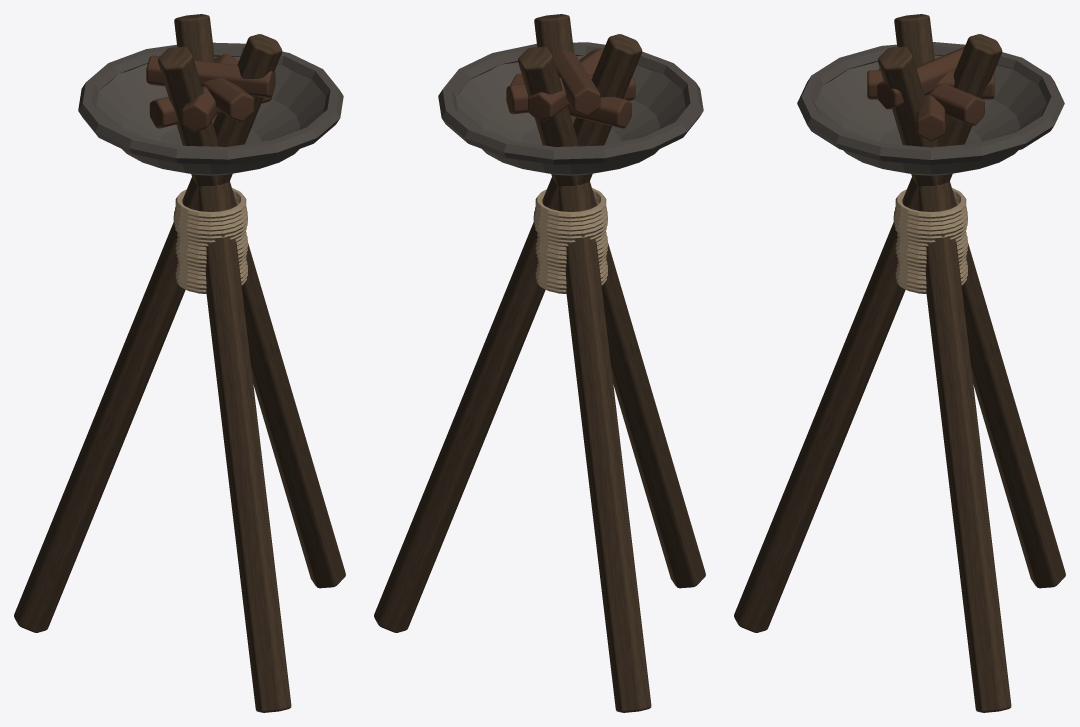
File: road_cresset.glb
3 renders of one model, left to right at view 1: azimuth 30°, elevation 25°; view 2: azimuth 150°, elevation 25°; view 3: azimuth 270°, elevation 25°, orthographic.
Parts seen in each view (by area): view 1: Rough timber leg, Forged fire bowl, Burnt wood, Hemp lashing; view 2: Rough timber leg, Forged fire bowl, Burnt wood, Hemp lashing; view 3: Rough timber leg, Forged fire bowl, Burnt wood, Hemp lashing.
Boxes of the visible parts, x1,y1,x2,y2 form: Rough timber leg: (14, 14, 345, 712); Forged fire bowl: (78, 42, 343, 175); Burnt wood: (146, 54, 275, 132); Hemp lashing: (173, 188, 247, 293); Rough timber leg: (374, 14, 705, 712); Forged fire bowl: (438, 42, 703, 175); Burnt wood: (506, 48, 635, 128); Hemp lashing: (533, 188, 607, 293); Rough timber leg: (734, 14, 1065, 712); Forged fire bowl: (797, 42, 1064, 175); Burnt wood: (867, 46, 994, 141); Hemp lashing: (893, 188, 967, 293).
Size of the model in its own units: 1.35 by 2.63 by 1.3.
4 materials, 1 textured.
